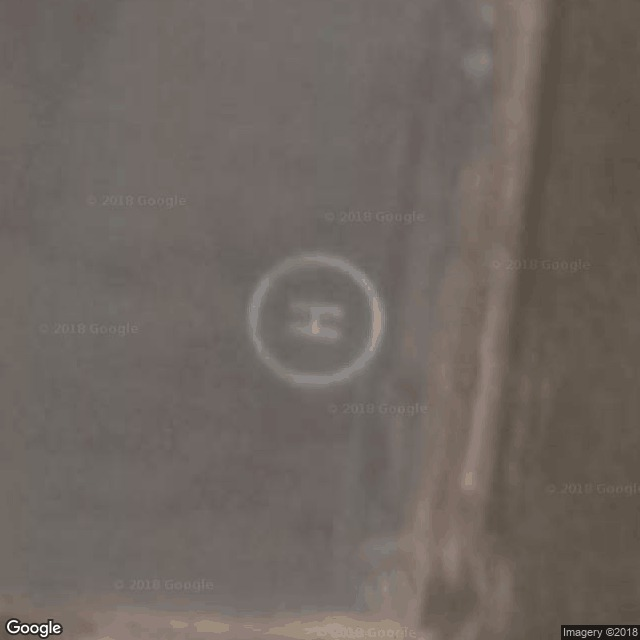heliport: (241, 242, 389, 392)
